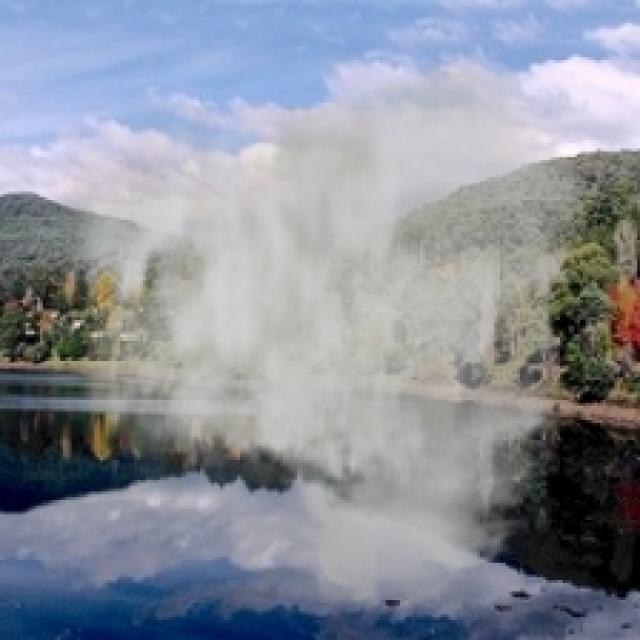smoke: (40, 51, 591, 614)
